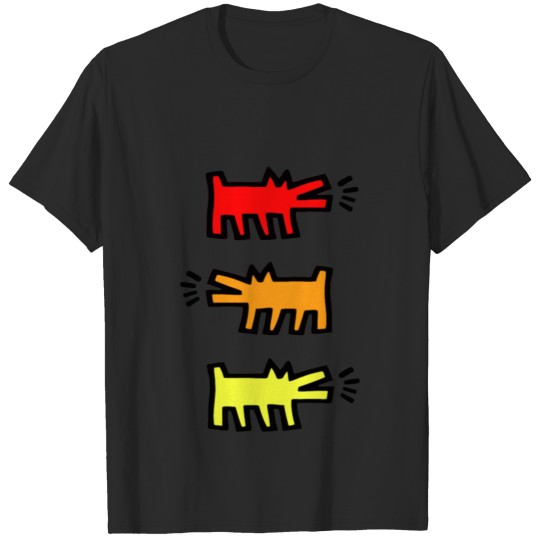design: (177, 162, 363, 432)
